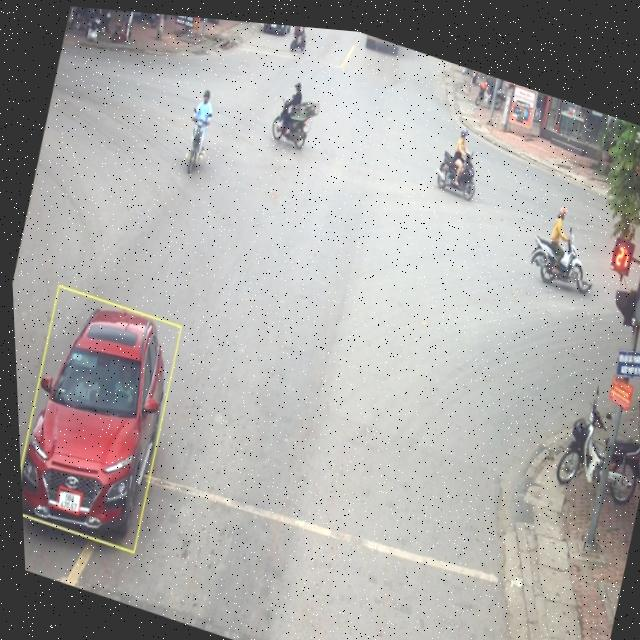Red: (625, 210, 640, 316)
